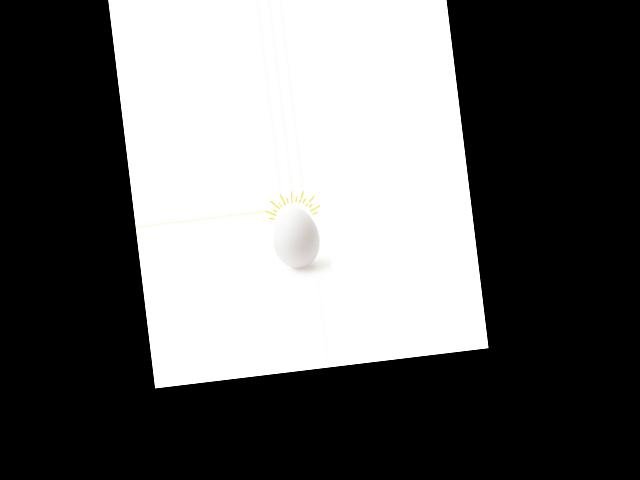egg: (269, 205, 322, 270)
